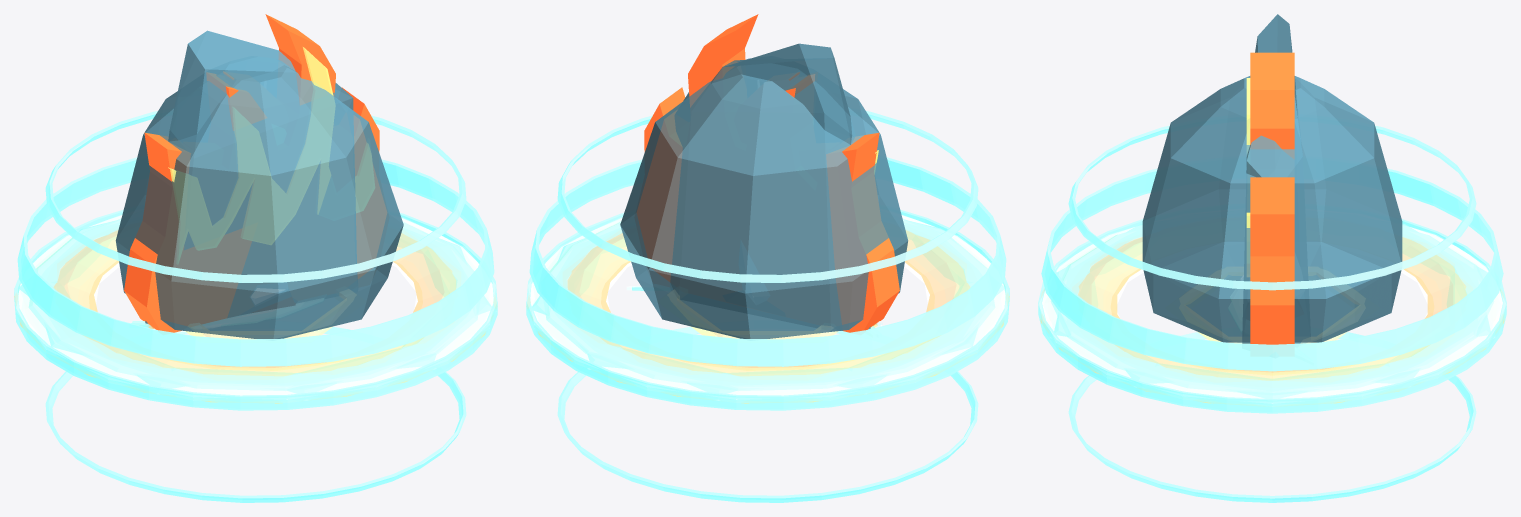
File: ReworkVFX.fbx
3 views of the same model, side by side, from view 1: azimuth 30°, elevation 25°; view 2: azimuth 150°, elevation 25°; view 3: azimuth 270°, elevation 25° (orthographic). The views are drawn at different scales.
Visible parts, largest first — view 1: FreezeShell, FrostWallPlate, ReconSpike_Energy, FlameWallSegment, FlameWallCrest_Energy, FrostBurstRim_Energy, HealZonePulse_Energy, RecallPhaseRim_Energy, ReconEquator_Energy, CrashPressureRing_Energy, ReconUpper_Energy, ReconLower_Energy (+2 smaller); view 2: FreezeShell, FrostWallPlate, ReconSpike_Energy, FlameWallSegment, FrostBurstRim_Energy, HealZonePulse_Energy, RecallPhaseRim_Energy, ReconEquator_Energy, CrashPressureRing_Energy, ReconUpper_Energy, ReconLower_Energy, BarrierHexTile_Energy; view 3: FreezeShell, ReconSpike_Energy, FlameWallSegment, FrostBurstRim_Energy, HealZonePulse_Energy, RecallPhaseRim_Energy, ReconEquator_Energy, CrashPressureRing_Energy, FrostWallPlate, ReconUpper_Energy, ReconLower_Energy, BarrierHexTile_Energy (+1 smaller).
Part boxes in pixels (x1,y1,x2,y2): FreezeShell: (115, 57, 403, 338); FrostWallPlate: (145, 30, 357, 323); ReconSpike_Energy: (17, 157, 494, 366); FlameWallSegment: (124, 14, 386, 332); FlameWallCrest_Energy: (168, 47, 374, 264); FrostBurstRim_Energy: (16, 215, 495, 399); HealZonePulse_Energy: (16, 219, 495, 402); RecallPhaseRim_Energy: (16, 220, 496, 400); ReconEquator_Energy: (14, 209, 497, 410); CrashPressureRing_Energy: (14, 230, 497, 403); ReconUpper_Energy: (45, 111, 466, 282); ReconLower_Energy: (45, 327, 466, 502); FreezeShell: (620, 58, 908, 338); FrostWallPlate: (671, 43, 870, 330); ReconSpike_Energy: (529, 157, 1006, 366); FlameWallSegment: (637, 14, 899, 332); FrostBurstRim_Energy: (528, 215, 1007, 399); HealZonePulse_Energy: (528, 219, 1007, 402); RecallPhaseRim_Energy: (527, 220, 1007, 400); ReconEquator_Energy: (526, 209, 1009, 410); CrashPressureRing_Energy: (526, 230, 1009, 403); ReconUpper_Energy: (557, 111, 978, 282); ReconLower_Energy: (557, 327, 978, 502); BarrierHexTile_Energy: (668, 292, 838, 339); FreezeShell: (1142, 76, 1402, 342); ReconSpike_Energy: (1041, 168, 1503, 371); FlameWallSegment: (1250, 52, 1294, 344); FrostBurstRim_Energy: (1039, 225, 1505, 403); HealZonePulse_Energy: (1039, 227, 1505, 406); RecallPhaseRim_Energy: (1049, 223, 1495, 406); ReconEquator_Energy: (1038, 219, 1506, 413); CrashPressureRing_Energy: (1040, 237, 1504, 405); FrostWallPlate: (1242, 14, 1310, 343); ReconUpper_Energy: (1068, 125, 1476, 290); ReconLower_Energy: (1068, 332, 1476, 502); BarrierHexTile_Energy: (1180, 267, 1364, 343).
Size of the model in its own units: 2 by 1.77 by 2.
